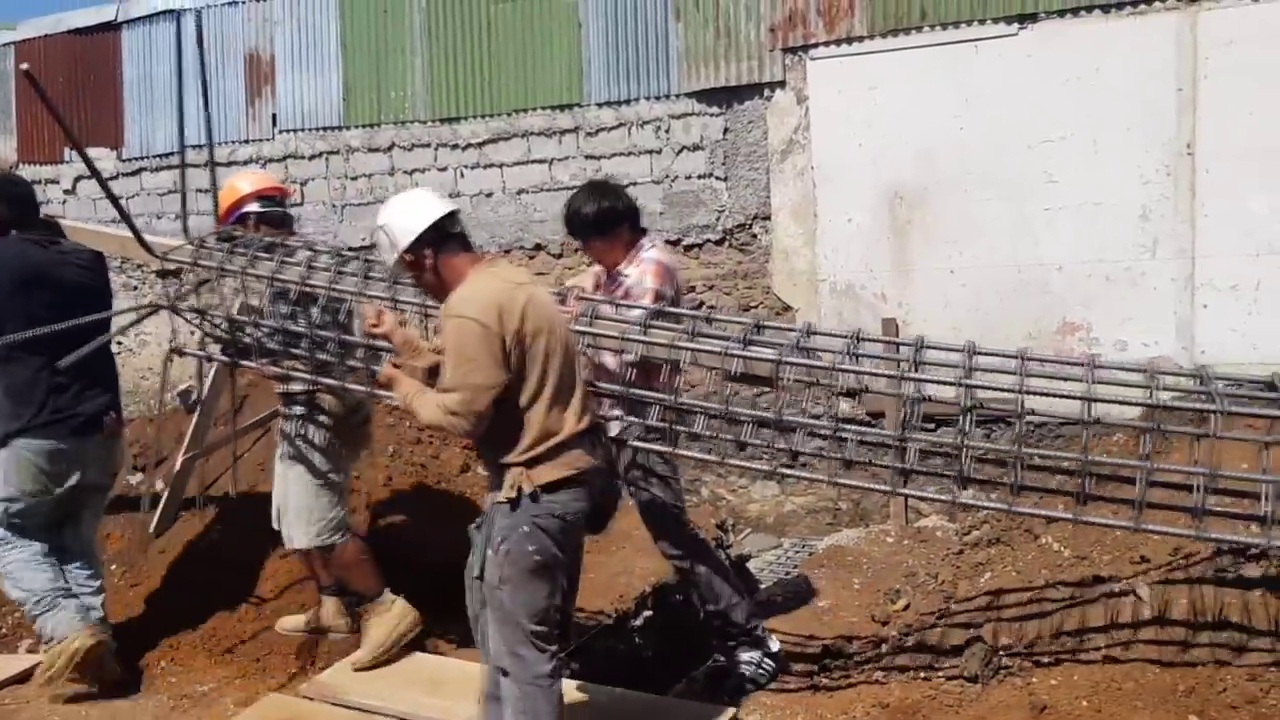helmet: (369, 187, 463, 279), (210, 171, 289, 228)
helmet-off: (561, 183, 648, 280), (0, 162, 64, 249)
helmet-on: (368, 184, 495, 307), (211, 163, 296, 246)
person: (366, 182, 627, 720), (567, 164, 779, 703), (209, 155, 422, 662), (2, 157, 116, 679)
